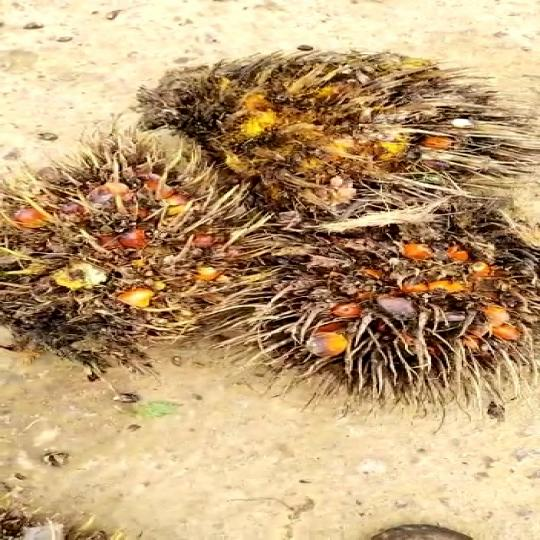terlalu masak: (150, 57, 518, 224), (250, 185, 538, 388), (0, 154, 273, 340)
